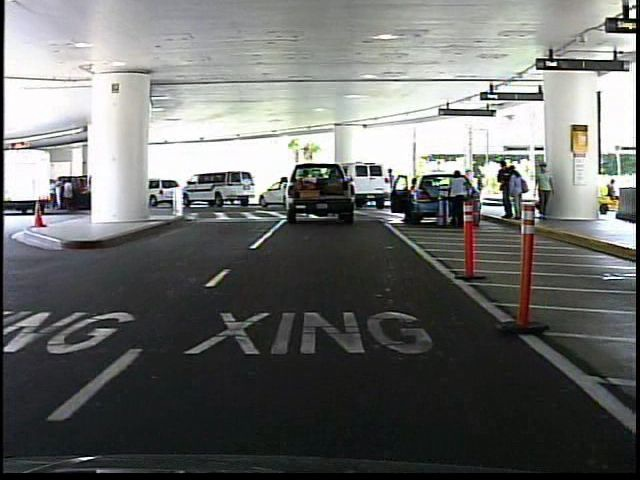person: (532, 159, 555, 225), (443, 164, 468, 212), (383, 164, 400, 210)
